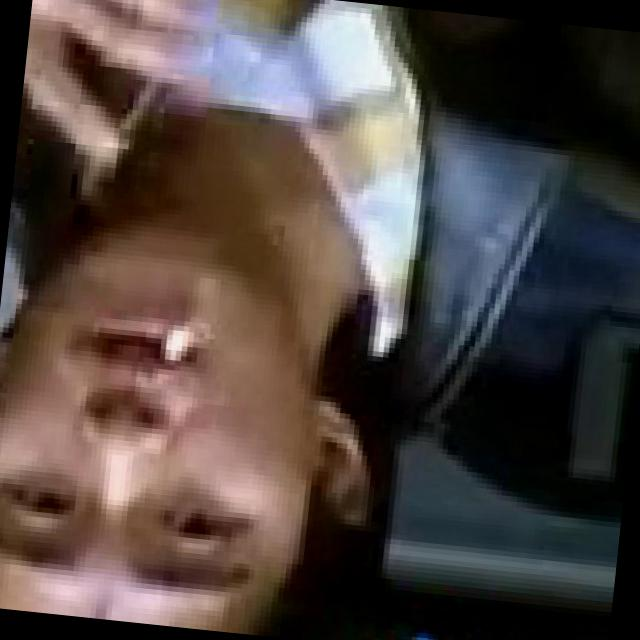smoke: (130, 301, 207, 388)
